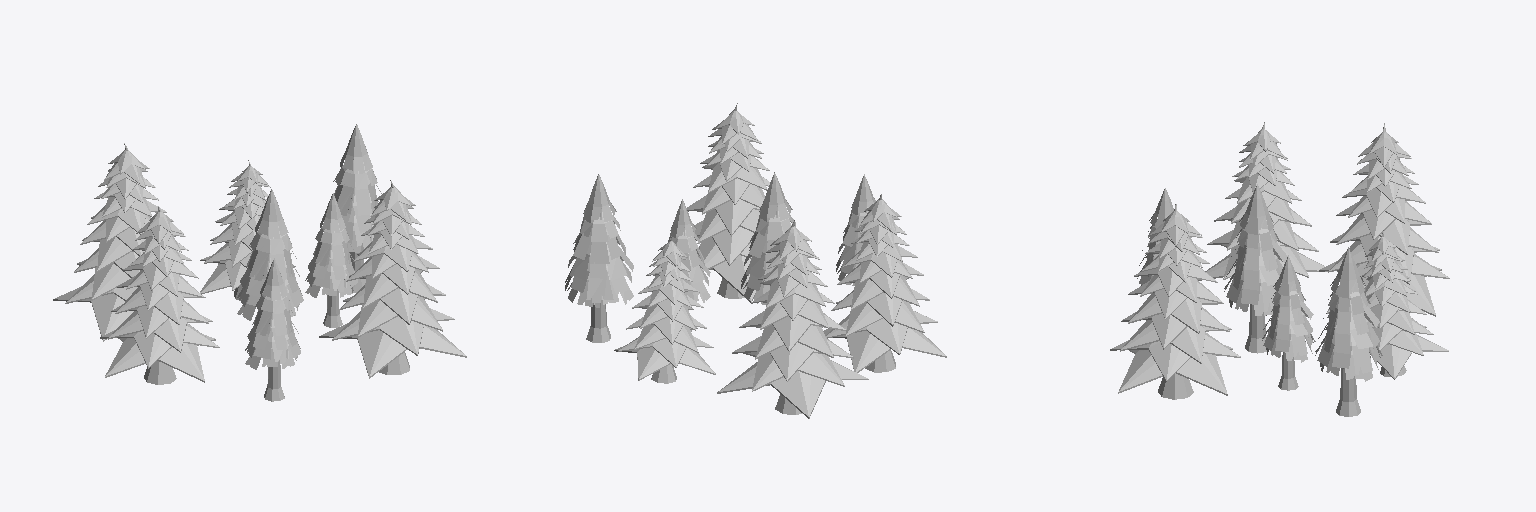
The model's file is ArbolesConjunto01.obj.
3 views of the same model, side by side, from view 1: azimuth 30°, elevation 25°; view 2: azimuth 150°, elevation 25°; view 3: azimuth 270°, elevation 25° (orthographic).
Parts seen in each view (by area): view 1: Grupo1_Pinos001, Pino004, Grupo1_Pinos, Pino005, Pino001, TroncoP006, Pino008, Pino003, TroncoP002, Tronco006; view 2: Grupo1_Pinos, Pino004, Grupo1_Pinos001, Pino005, Pino008, Pino001, Pino003, TroncoP006, TroncoP008; view 3: Grupo1_Pinos001, Grupo1_Pinos, Pino004, Pino005, Pino008, Pino001, Pino003, TroncoP006, TroncoP008, TroncoP004, Pino007.
Part boxes in pixels (x1,y1,x2,y2): Grupo1_Pinos001: (319, 180, 466, 378); Pino004: (100, 206, 219, 382); Grupo1_Pinos: (53, 143, 187, 341); Pino005: (200, 160, 295, 294); Pino001: (237, 189, 303, 320); TroncoP006: (245, 258, 300, 369); Pino008: (333, 124, 381, 252); Pino003: (305, 193, 357, 297); TroncoP002: (144, 361, 176, 384); Tronco006: (264, 360, 284, 401); Grupo1_Pinos: (717, 220, 868, 418); Pino004: (823, 194, 946, 372); Grupo1_Pinos001: (687, 103, 769, 302); Pino005: (614, 237, 715, 380); Pino008: (565, 174, 633, 307); Pino001: (741, 172, 795, 304); Pino003: (668, 199, 710, 302); TroncoP006: (836, 174, 875, 285); TroncoP008: (586, 300, 610, 342); Grupo1_Pinos001: (1110, 204, 1240, 395); Grupo1_Pinos: (1319, 123, 1449, 316); Pino004: (1198, 122, 1333, 280); Pino005: (1362, 230, 1448, 379); Pino008: (1315, 247, 1382, 381); Pino001: (1224, 184, 1287, 315); Pino003: (1262, 255, 1315, 362); TroncoP006: (1137, 188, 1173, 293); TroncoP008: (1336, 368, 1360, 416); TroncoP004: (1245, 218, 1266, 353); Pino007: (1158, 373, 1193, 399).
Bounding box in the file's own units: 31.96 × 17.52 × 28.48.